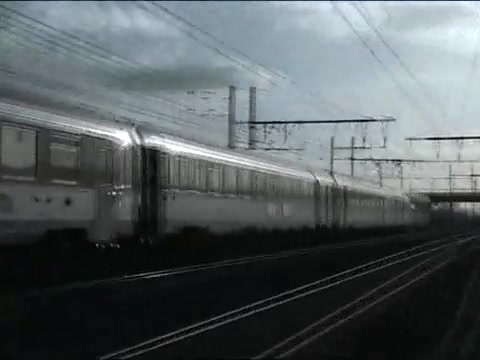train: (2, 92, 436, 252)
